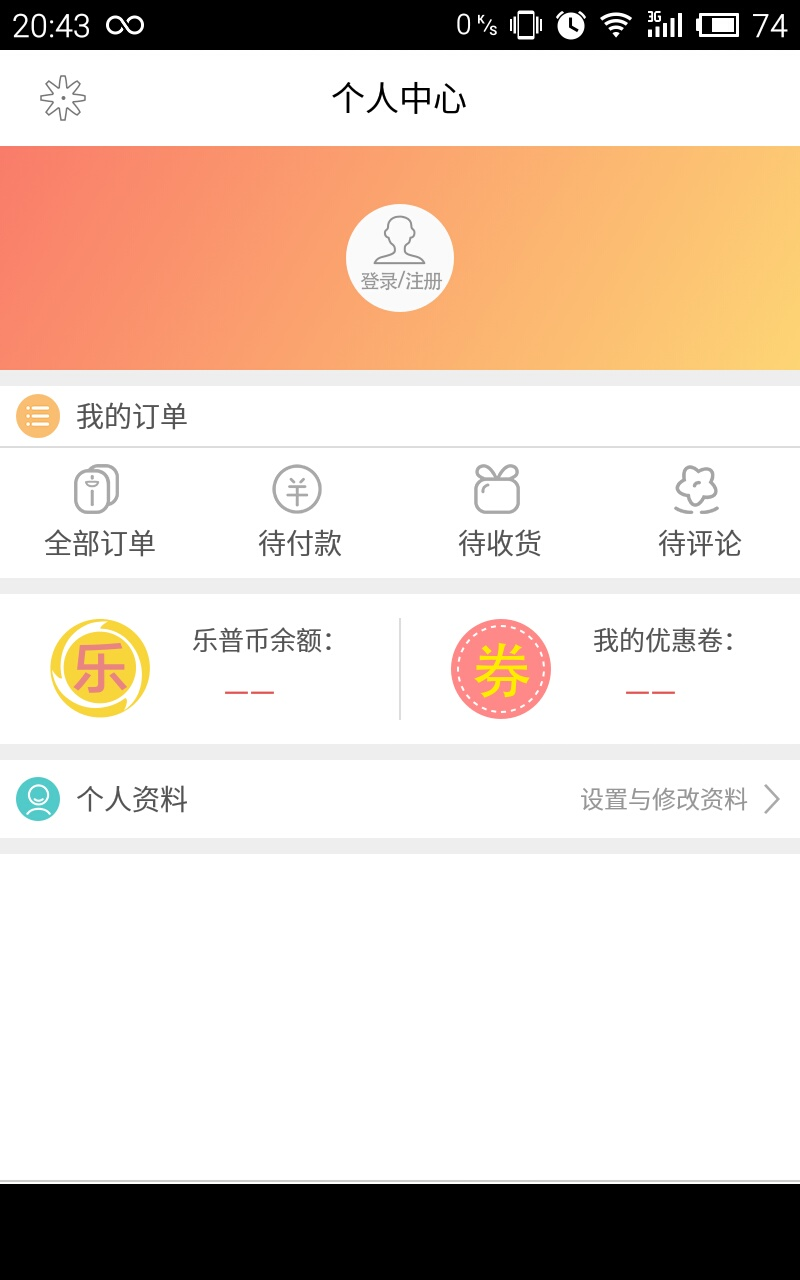imgbutton: (328, 196, 462, 316), (562, 769, 789, 828), (25, 71, 104, 127)
nav: (5, 452, 797, 581)
